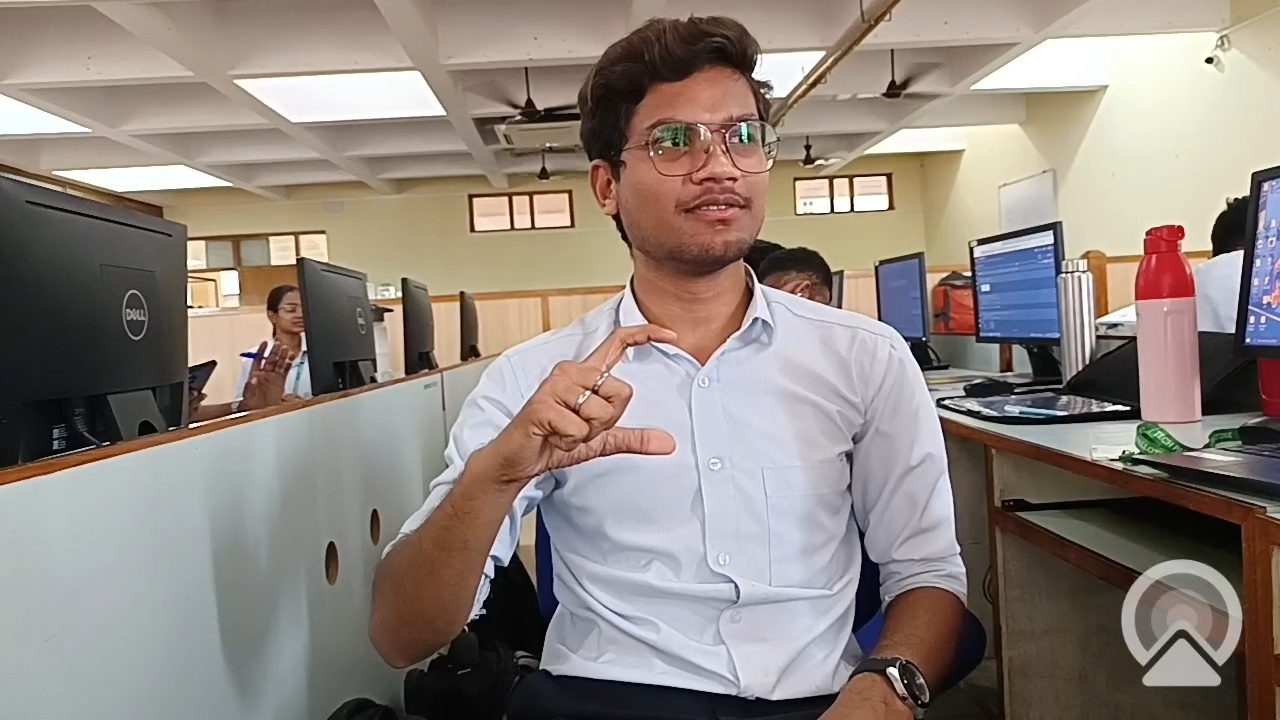C: (448, 277, 737, 488)
